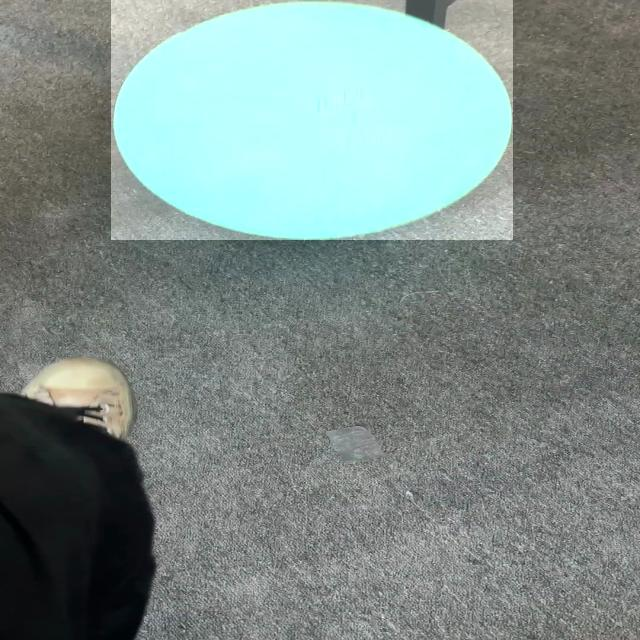Algae: (111, 1, 513, 240)
